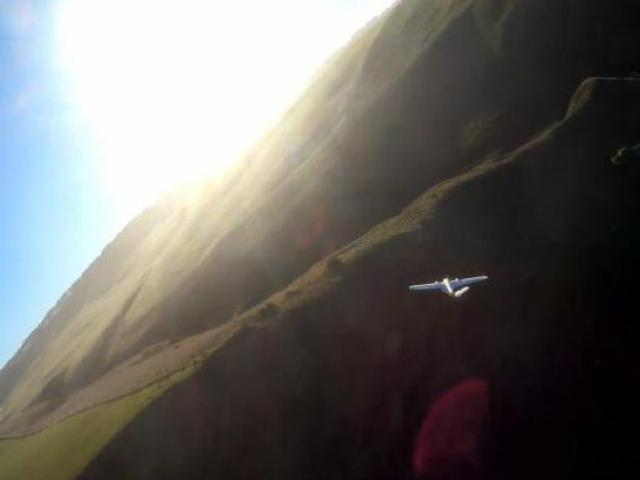uav: (407, 270, 490, 302)
